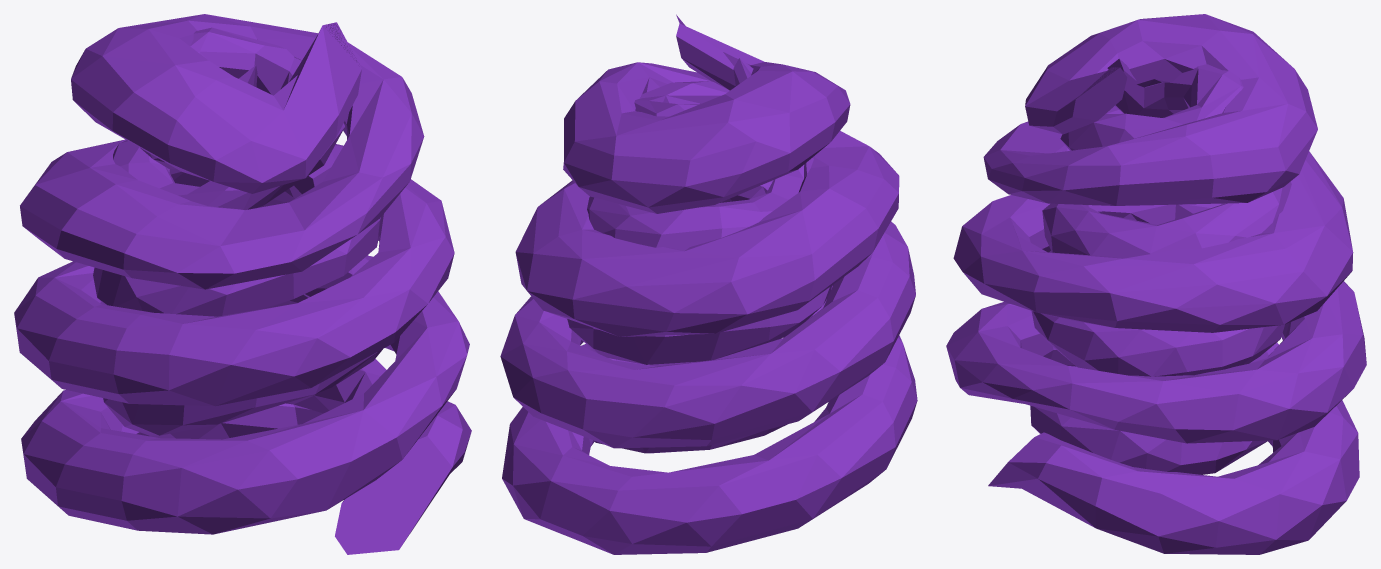
Rendered from icoplant.glb.
3 views of the same model, side by side, from view 1: azimuth 30°, elevation 25°; view 2: azimuth 150°, elevation 25°; view 3: azimuth 270°, elevation 25° (orthographic). The views are drawn at different scales.
Visible parts, largest first — view 1: Icoplant; view 2: Icoplant; view 3: Icoplant.
Part boxes in pixels (left/top/right/bottom): Icoplant: left=14, top=14, right=471, bottom=554; Icoplant: left=500, top=14, right=917, bottom=554; Icoplant: left=946, top=14, right=1366, bottom=554.
Bounding box in the file's own units: 0.7315 × 0.8877 × 0.7438.
